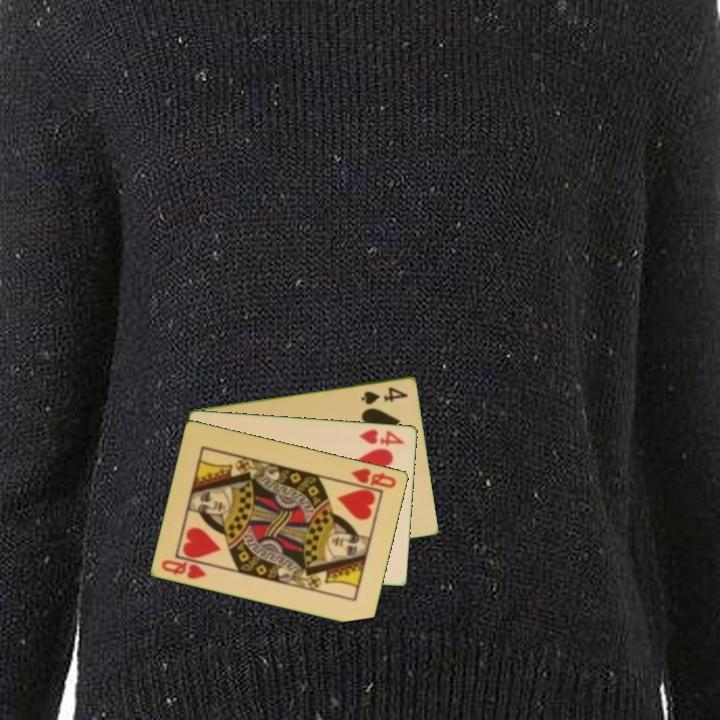4h: (356, 425, 407, 449)
4s: (358, 383, 411, 407)
Qh: (347, 464, 399, 491), (158, 556, 209, 582)
